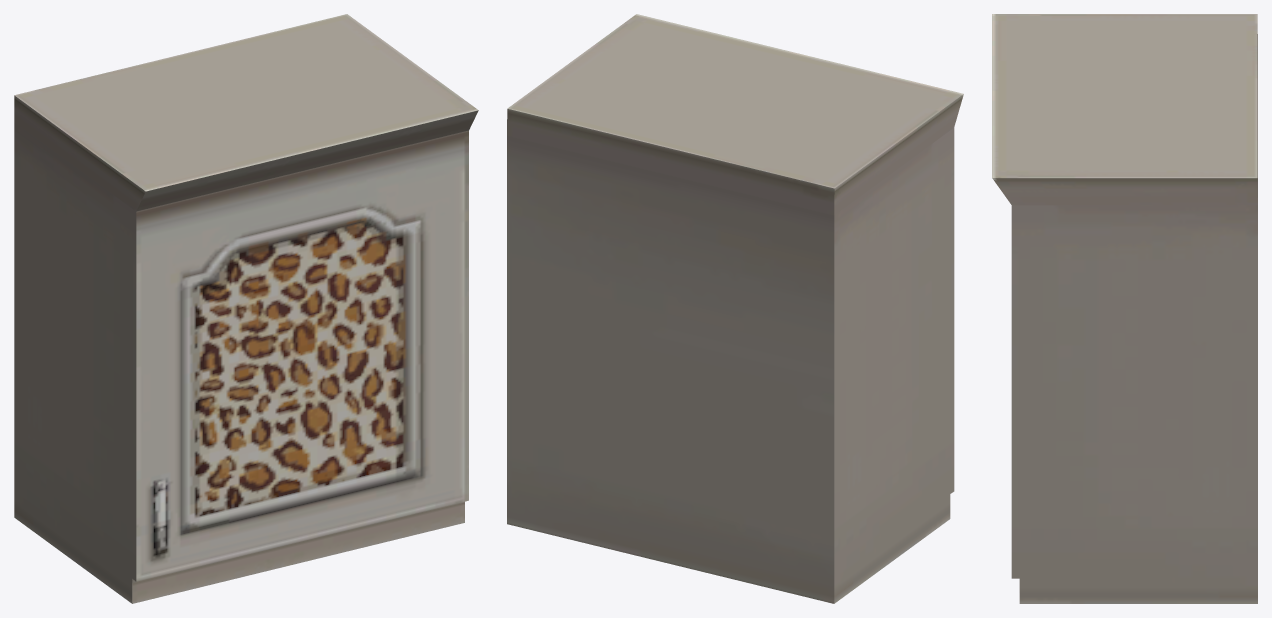
Rendered from furni_0200086.FBX.
3 views of the same model, side by side, from view 1: azimuth 30°, elevation 25°; view 2: azimuth 150°, elevation 25°; view 3: azimuth 270°, elevation 25° (orthographic). The views are drawn at different scales.
Visible parts, largest first — view 1: furni_0200086; view 2: furni_0200086; view 3: furni_0200086.
Part boxes in pixels (box(x1,y1,x2,y2)): furni_0200086: box(14, 14, 478, 603); furni_0200086: box(507, 14, 963, 603); furni_0200086: box(992, 14, 1257, 603).
Size of the model in its own units: 80.02 by 97.02 by 54.87.
Materials: 1 (1 with a texture image).
